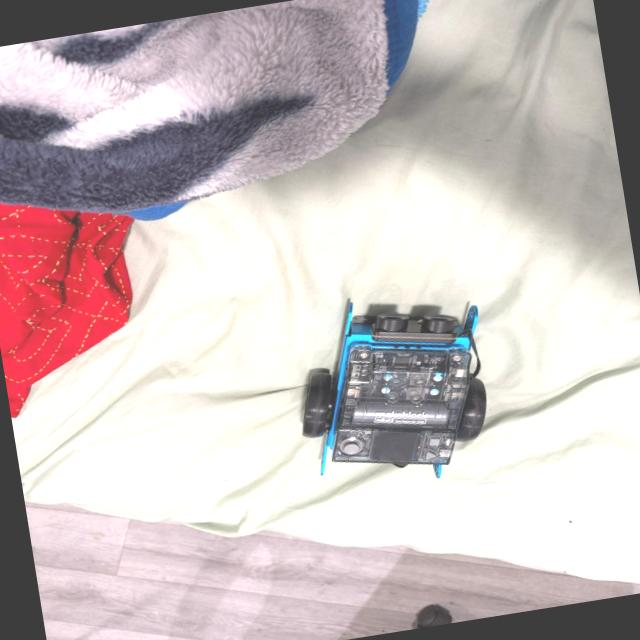mbot-detection: (277, 278, 508, 504)
